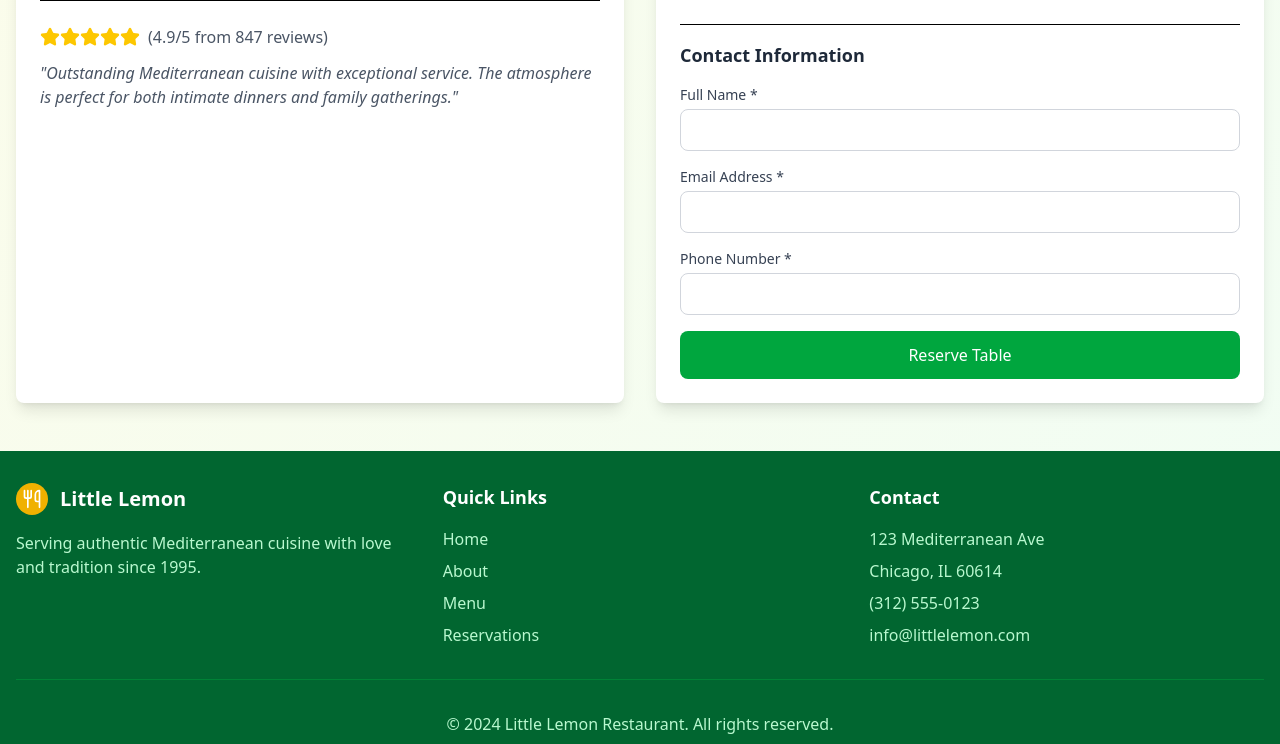
Scenario: Little Lemon Booking App › validates phone number format
(page scrolled)
Step 1. Type "invalid-phone" into the field labelled "Phone Number *" → (960, 294), box [680,273,1240,315]
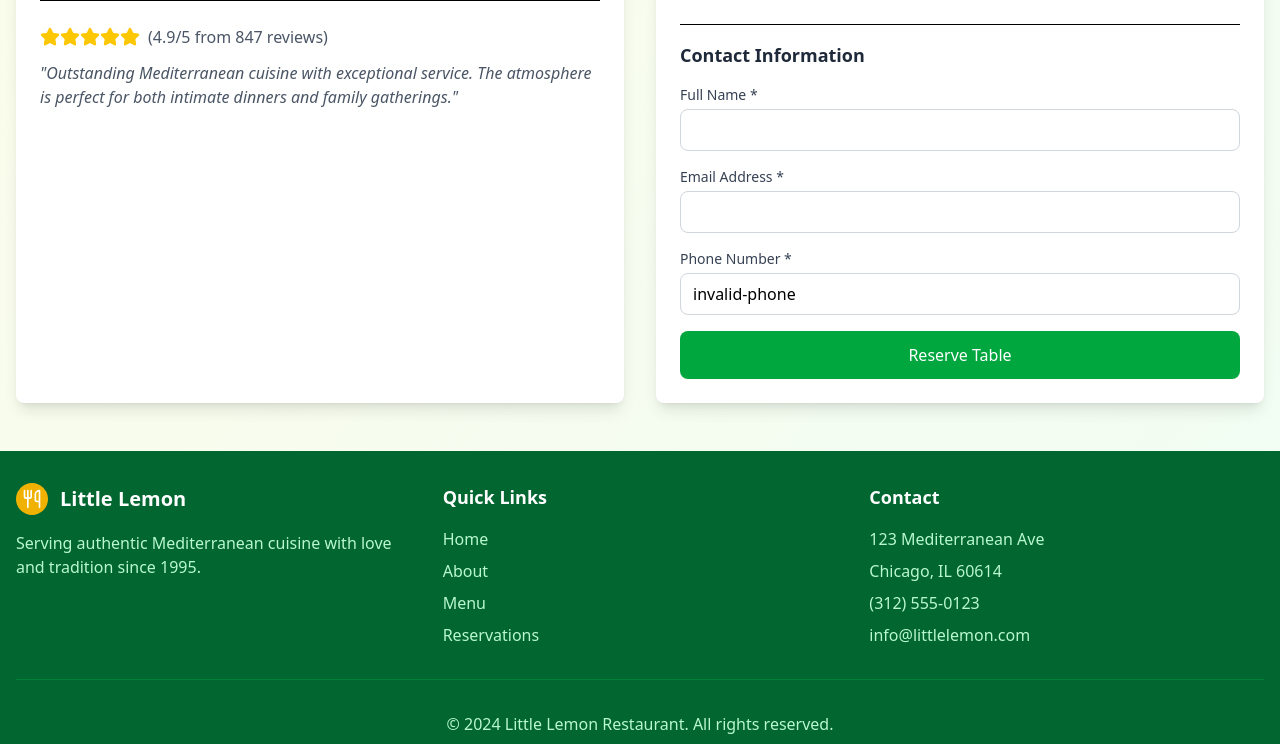
Step 2. Click the button "Reserve Table" → (960, 355), box [680,331,1240,379]
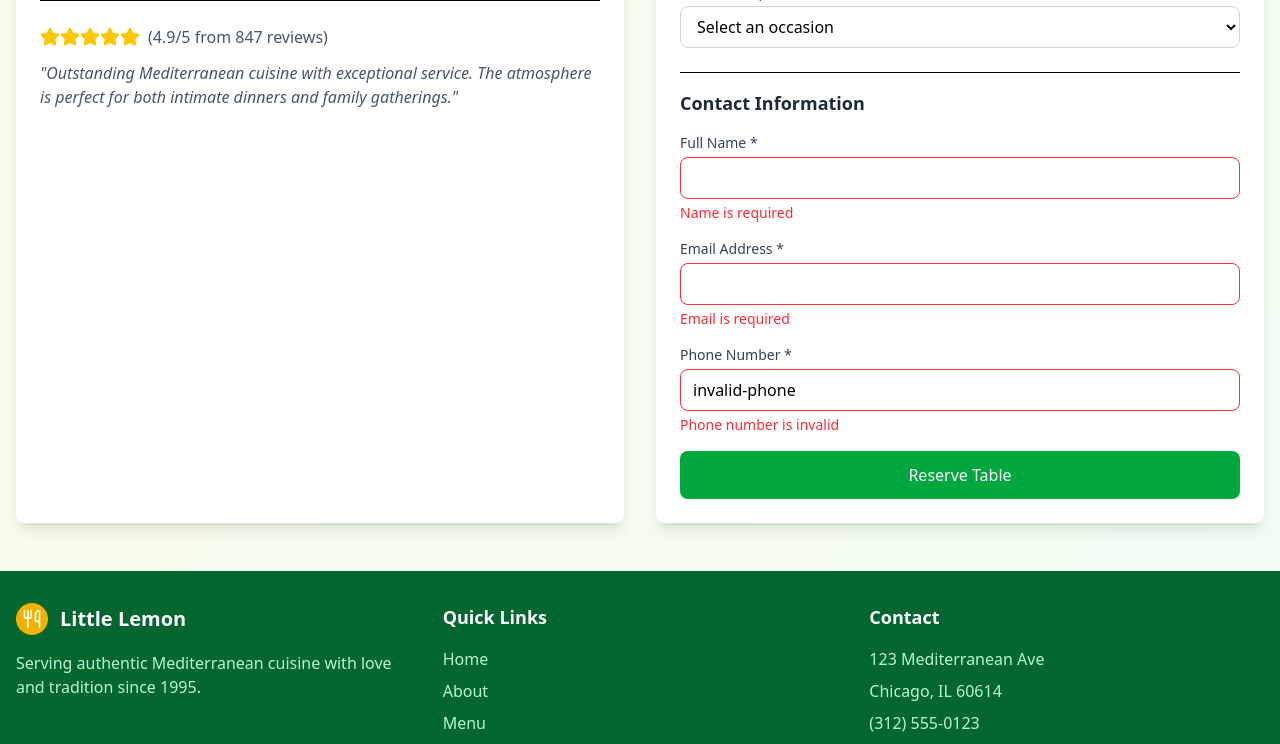
Expected: the text "Phone number is invalid" is shown, [680,415,839,434]
